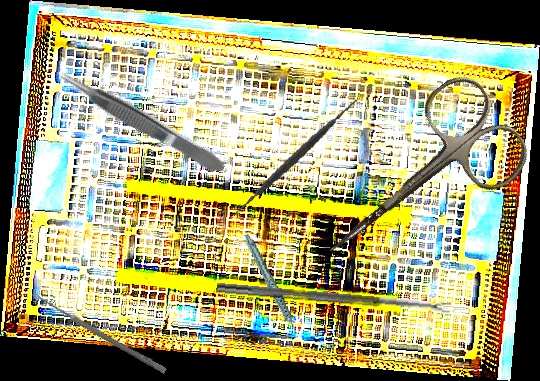Handpiece: (243, 228, 299, 345)
Iris Scissors: (292, 66, 539, 296)
Spatula Surgical: (224, 85, 366, 230)
Surgical Spoon: (30, 290, 168, 375), (215, 282, 452, 315)
Tissue Forceps: (54, 62, 229, 181)
